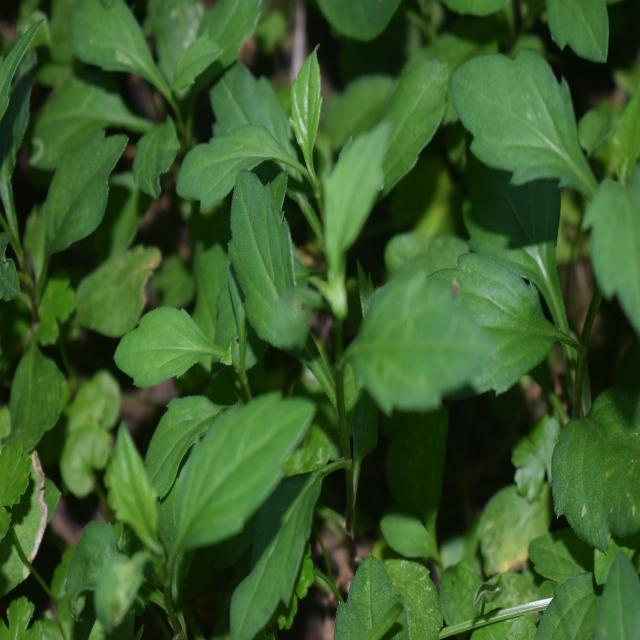Indian aster: (166, 71, 458, 494)
